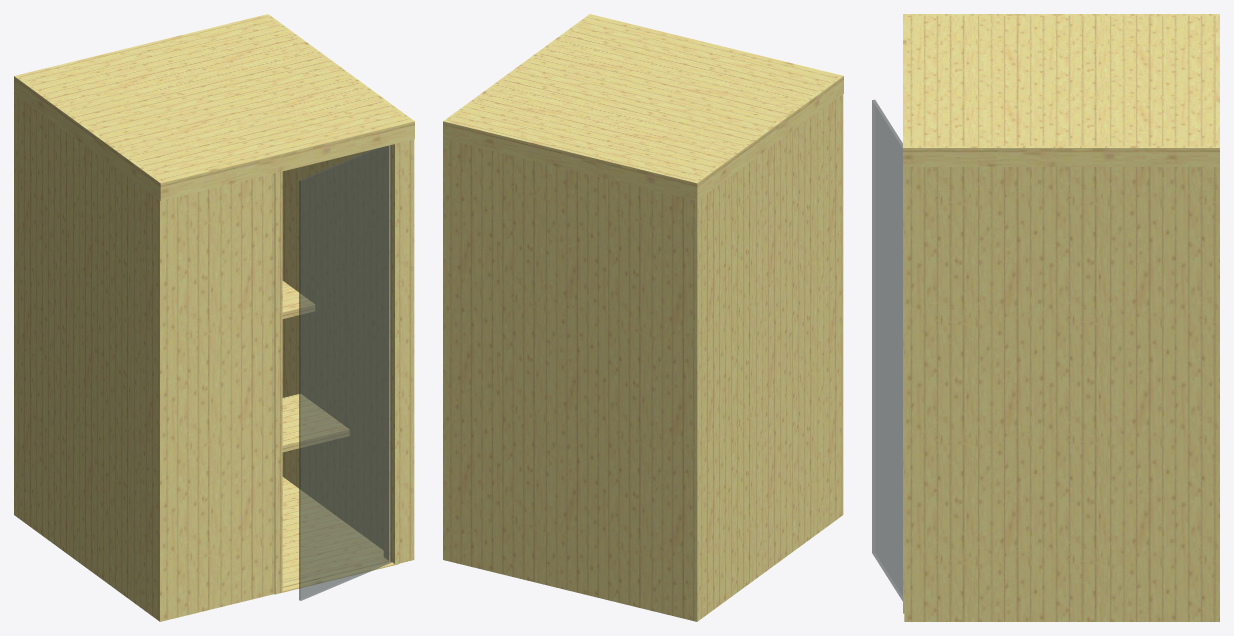
File: sauna_120x120.obj
3 views of the same model, side by side, from view 1: azimuth 30°, elevation 25°; view 2: azimuth 150°, elevation 25°; view 3: azimuth 270°, elevation 25° (orthographic). The views are drawn at different scales.
Parts seen in each view (by area): view 1: 2_2, 22_22, 17_17, 1_1, 4_4, 14_14, 23_23, 3_3, 28_28; view 2: 2_2, 17_17, 4_4; view 3: 2_2, 17_17, 22_22, 4_4, 1_1.
Part boxes in pixels (left/top/right/bottom): 2_2: left=14, top=94, right=414, bottom=621; 22_22: left=299, top=145, right=391, bottom=600; 17_17: left=19, top=16, right=409, bottom=181; 1_1: left=274, top=143, right=398, bottom=594; 4_4: left=14, top=14, right=414, bottom=200; 14_14: left=282, top=477, right=383, bottom=581; 23_23: left=282, top=394, right=349, bottom=452; 3_3: left=282, top=557, right=394, bottom=592; 28_28: left=282, top=281, right=314, bottom=318; 2_2: left=443, top=94, right=843, bottom=621; 17_17: left=448, top=16, right=838, bottom=180; 4_4: left=443, top=14, right=843, bottom=200; 2_2: left=904, top=167, right=1219, bottom=621; 17_17: left=907, top=15, right=1215, bottom=146; 22_22: left=872, top=99, right=902, bottom=600; 4_4: left=903, top=14, right=1219, bottom=166; 1_1: left=903, top=167, right=904, bottom=613.
Size of the model in its own units: 120 by 198 by 132.
Materials: 9 (6 with a texture image).
